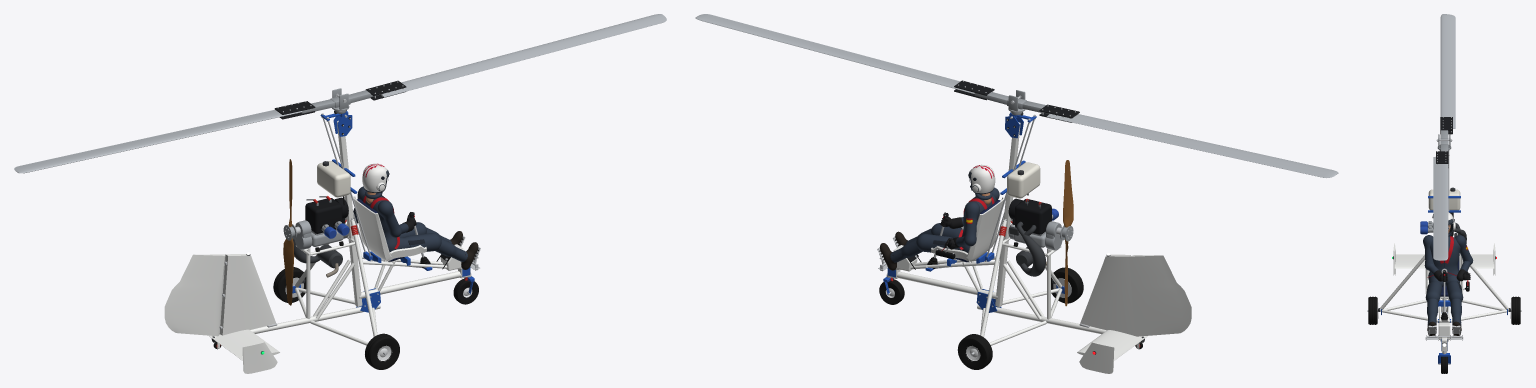
File: sclightning.glb
3 renders of one model, left to right at view 1: azimuth 30°, elevation 25°; view 2: azimuth 150°, elevation 25°; view 3: azimuth 270°, elevation 25°, orthographic. The views are drawn at different scales.
Visible parts, largest first — view 1: airframe, rotor, rudder, pilot_front, wheel_R, prop, wheel_L, pilot_front_legR_up, nose_wheel; view 2: airframe, rotor, rudder, pilot_front, wheel_L, prop, wheel_R, pilot_front_armL_up, nose_wheel; view 3: rotor, airframe, pilot_front, pilot_front_legL_up, pilot_front_legR_up, wheel_L, wheel_R, pilot_front_legL_lo, pilot_front_legR_lo, pilot_front_armL_up, pilot_front_armR_up, nose_wheel (+2 smaller).
Boxes of the visible parts, left/top/right/bottom form: airframe: left=209, top=112, right=479, bottom=373; rotor: left=14, top=14, right=666, bottom=173; rudder: left=164, top=254, right=227, bottom=336; pilot_front: left=361, top=163, right=399, bottom=252; wheel_R: left=365, top=333, right=399, bottom=369; prop: left=283, top=159, right=296, bottom=305; wheel_L: left=273, top=267, right=306, bottom=302; pilot_front_legR_up: left=396, top=233, right=441, bottom=251; nose_wheel: left=453, top=272, right=478, bottom=304; airframe: left=878, top=114, right=1148, bottom=373; rotor: left=695, top=14, right=1338, bottom=177; rudder: left=1129, top=255, right=1191, bottom=336; pilot_front: left=958, top=164, right=996, bottom=252; wheel_L: left=957, top=334, right=992, bottom=369; prop: left=1060, top=160, right=1073, bottom=306; wheel_R: left=1051, top=267, right=1083, bottom=303; pilot_front_armL_up: left=964, top=201, right=979, bottom=246; nose_wheel: left=879, top=273, right=904, bottom=304; rotor: left=1433, top=14, right=1455, bottom=260; airframe: left=1367, top=151, right=1521, bottom=354; pilot_front: left=1427, top=212, right=1460, bottom=279; pilot_front_legL_up: left=1445, top=275, right=1463, bottom=301; pilot_front_legR_up: left=1425, top=275, right=1443, bottom=301; wheel_L: left=1510, top=296, right=1520, bottom=324; wheel_R: left=1368, top=296, right=1378, bottom=324; pilot_front_legL_lo: left=1450, top=298, right=1461, bottom=325; pilot_front_legR_lo: left=1427, top=298, right=1438, bottom=325; pilot_front_armL_up: left=1455, top=235, right=1473, bottom=264; pilot_front_armR_up: left=1423, top=235, right=1433, bottom=270; nose_wheel: left=1438, top=350, right=1450, bottom=373.
Bounding box in the file's own units: 7.01 × 2.51 × 1.86.
